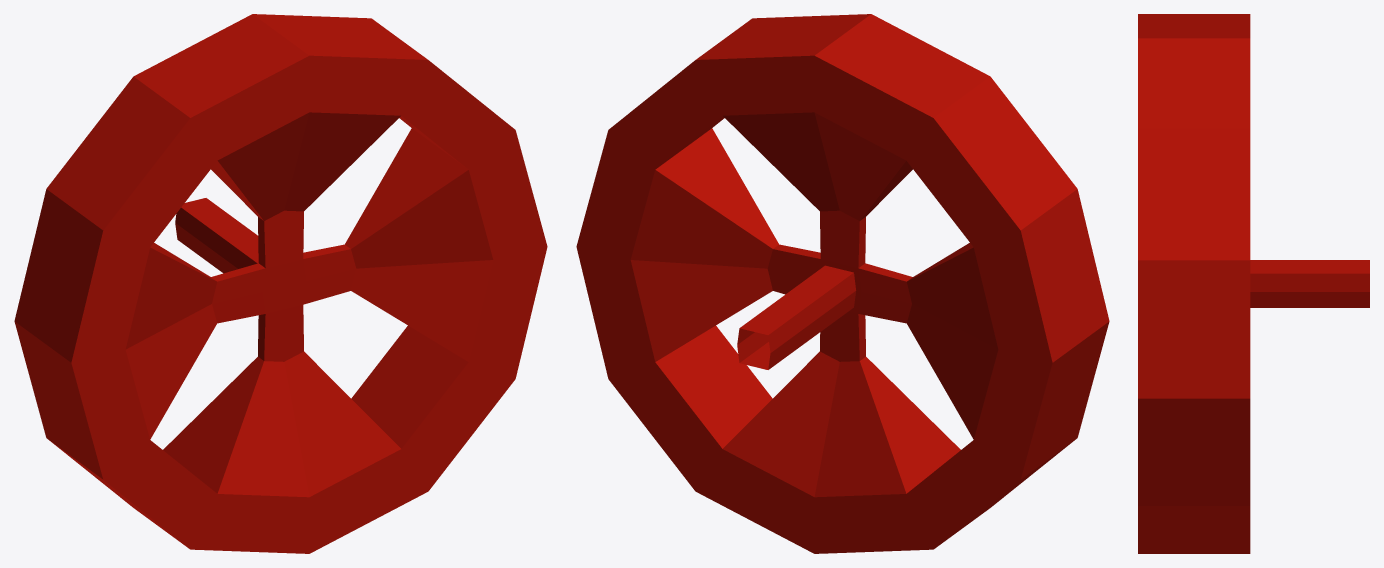
The model's file is Roldana.fbx.
3 renders of one model, left to right at view 1: azimuth 30°, elevation 25°; view 2: azimuth 150°, elevation 25°; view 3: azimuth 270°, elevation 25°, orthographic.
Visible parts, largest first — view 1: Roldana; view 2: Roldana; view 3: Roldana.
Boxes of the visible parts, <box> form: Roldana: <box>14,14,547,553</box>; Roldana: <box>576,14,1109,553</box>; Roldana: <box>1138,14,1369,553</box>.
Size of the model in its own units: 20.34 by 20.34 by 8.7.
